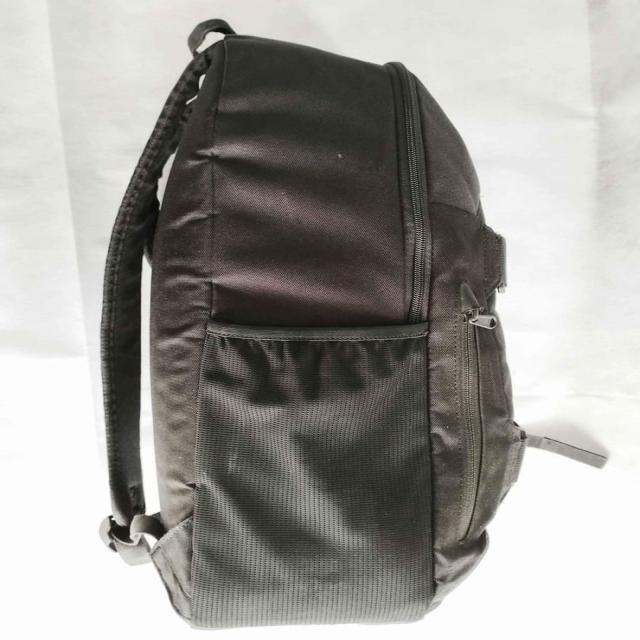bag: (110, 29, 505, 629)
